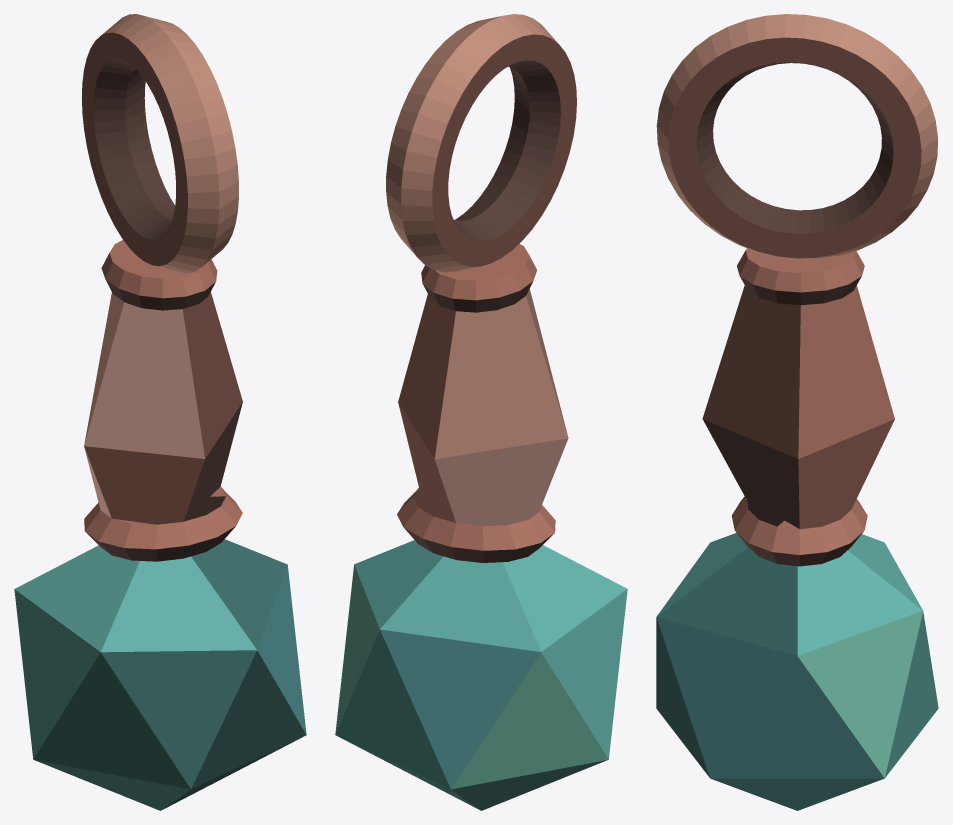
File: Item_Earring_02.fbx
3 views of the same model, side by side, from view 1: azimuth 30°, elevation 25°; view 2: azimuth 150°, elevation 25°; view 3: azimuth 270°, elevation 25° (orthographic).
Parts seen in each view (by area): view 1: SM_Item_Earring_02; view 2: SM_Item_Earring_02; view 3: SM_Item_Earring_02.
Boxes of the visible parts, x1,y1,x2,y2 form: SM_Item_Earring_02: [14, 14, 306, 810]; SM_Item_Earring_02: [335, 14, 627, 810]; SM_Item_Earring_02: [656, 14, 938, 810].
Size of the model in its own units: 249 by 735 by 236.
